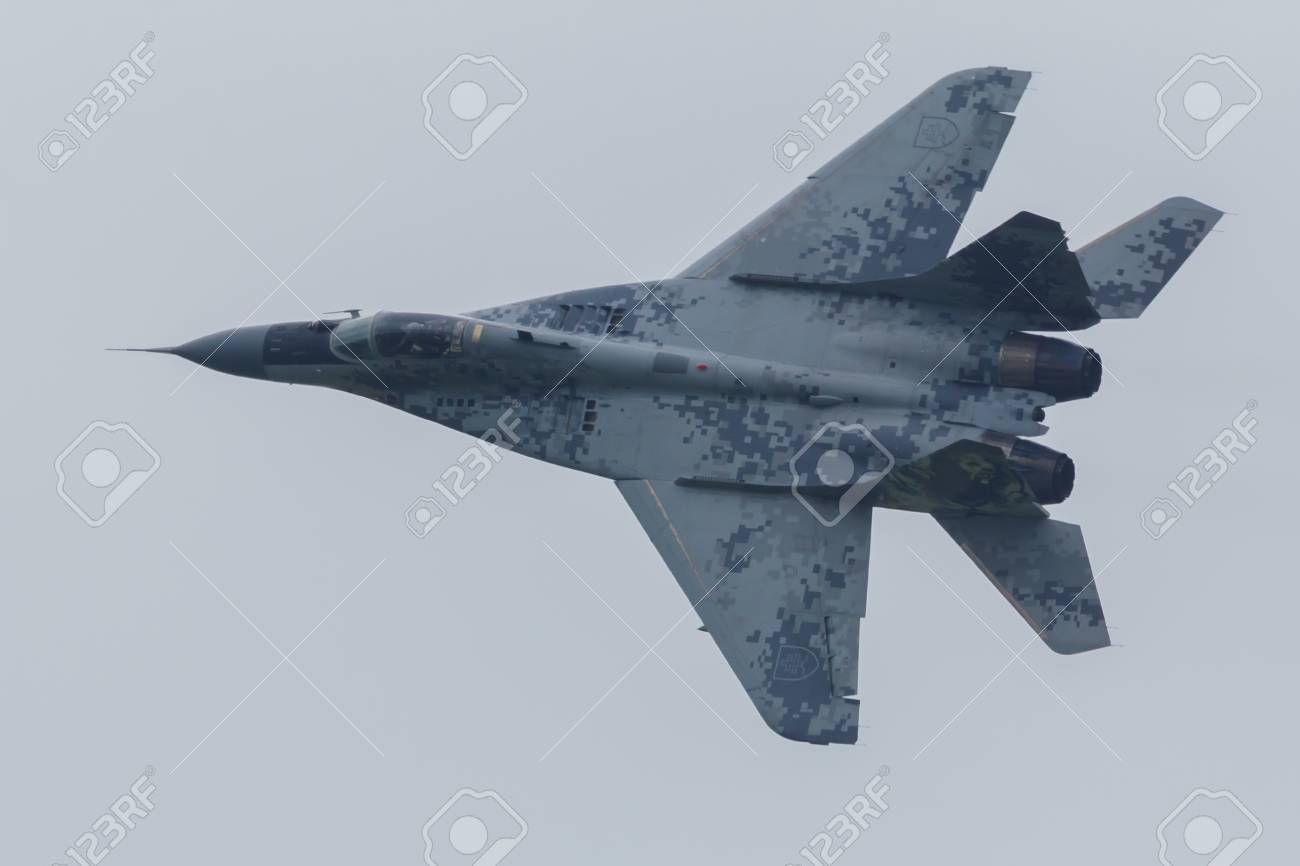Mig-29: (141, 46, 1175, 762)
